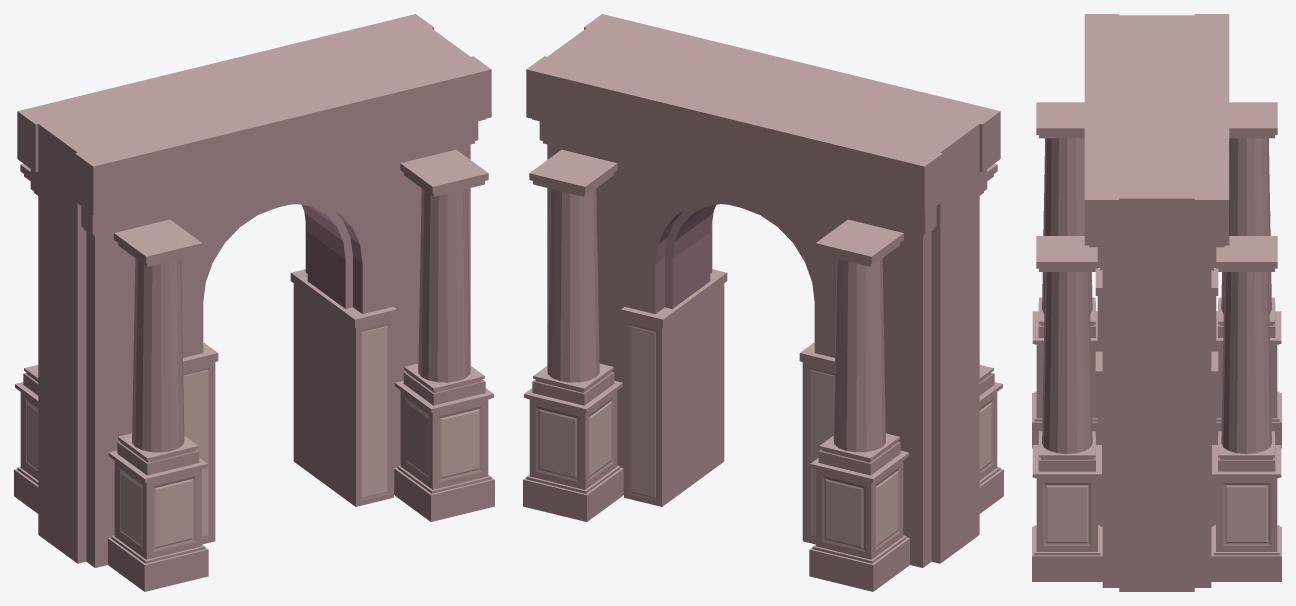
Rendered from archarch1.glb.
3 renders of one model, left to right at view 1: azimuth 30°, elevation 25°; view 2: azimuth 150°, elevation 25°; view 3: azimuth 270°, elevation 25°, orthographic. The views are drawn at different scales.
Parts seen in each view (by area): view 1: Arch3; view 2: Arch3; view 3: Arch3.
Boxes of the visible parts, bbox=[...] form: Arch3: bbox=[14, 14, 494, 591]; Arch3: bbox=[523, 14, 1003, 591]; Arch3: bbox=[1032, 14, 1281, 591].
Bounding box in the file's own units: 4.06 × 4 × 2.3.
1 material, 1 textured.
